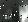person: (20, 6, 28, 22), (7, 11, 13, 19)
